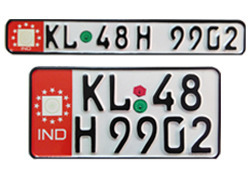number_plate: (29, 65, 221, 160), (5, 18, 246, 57)
